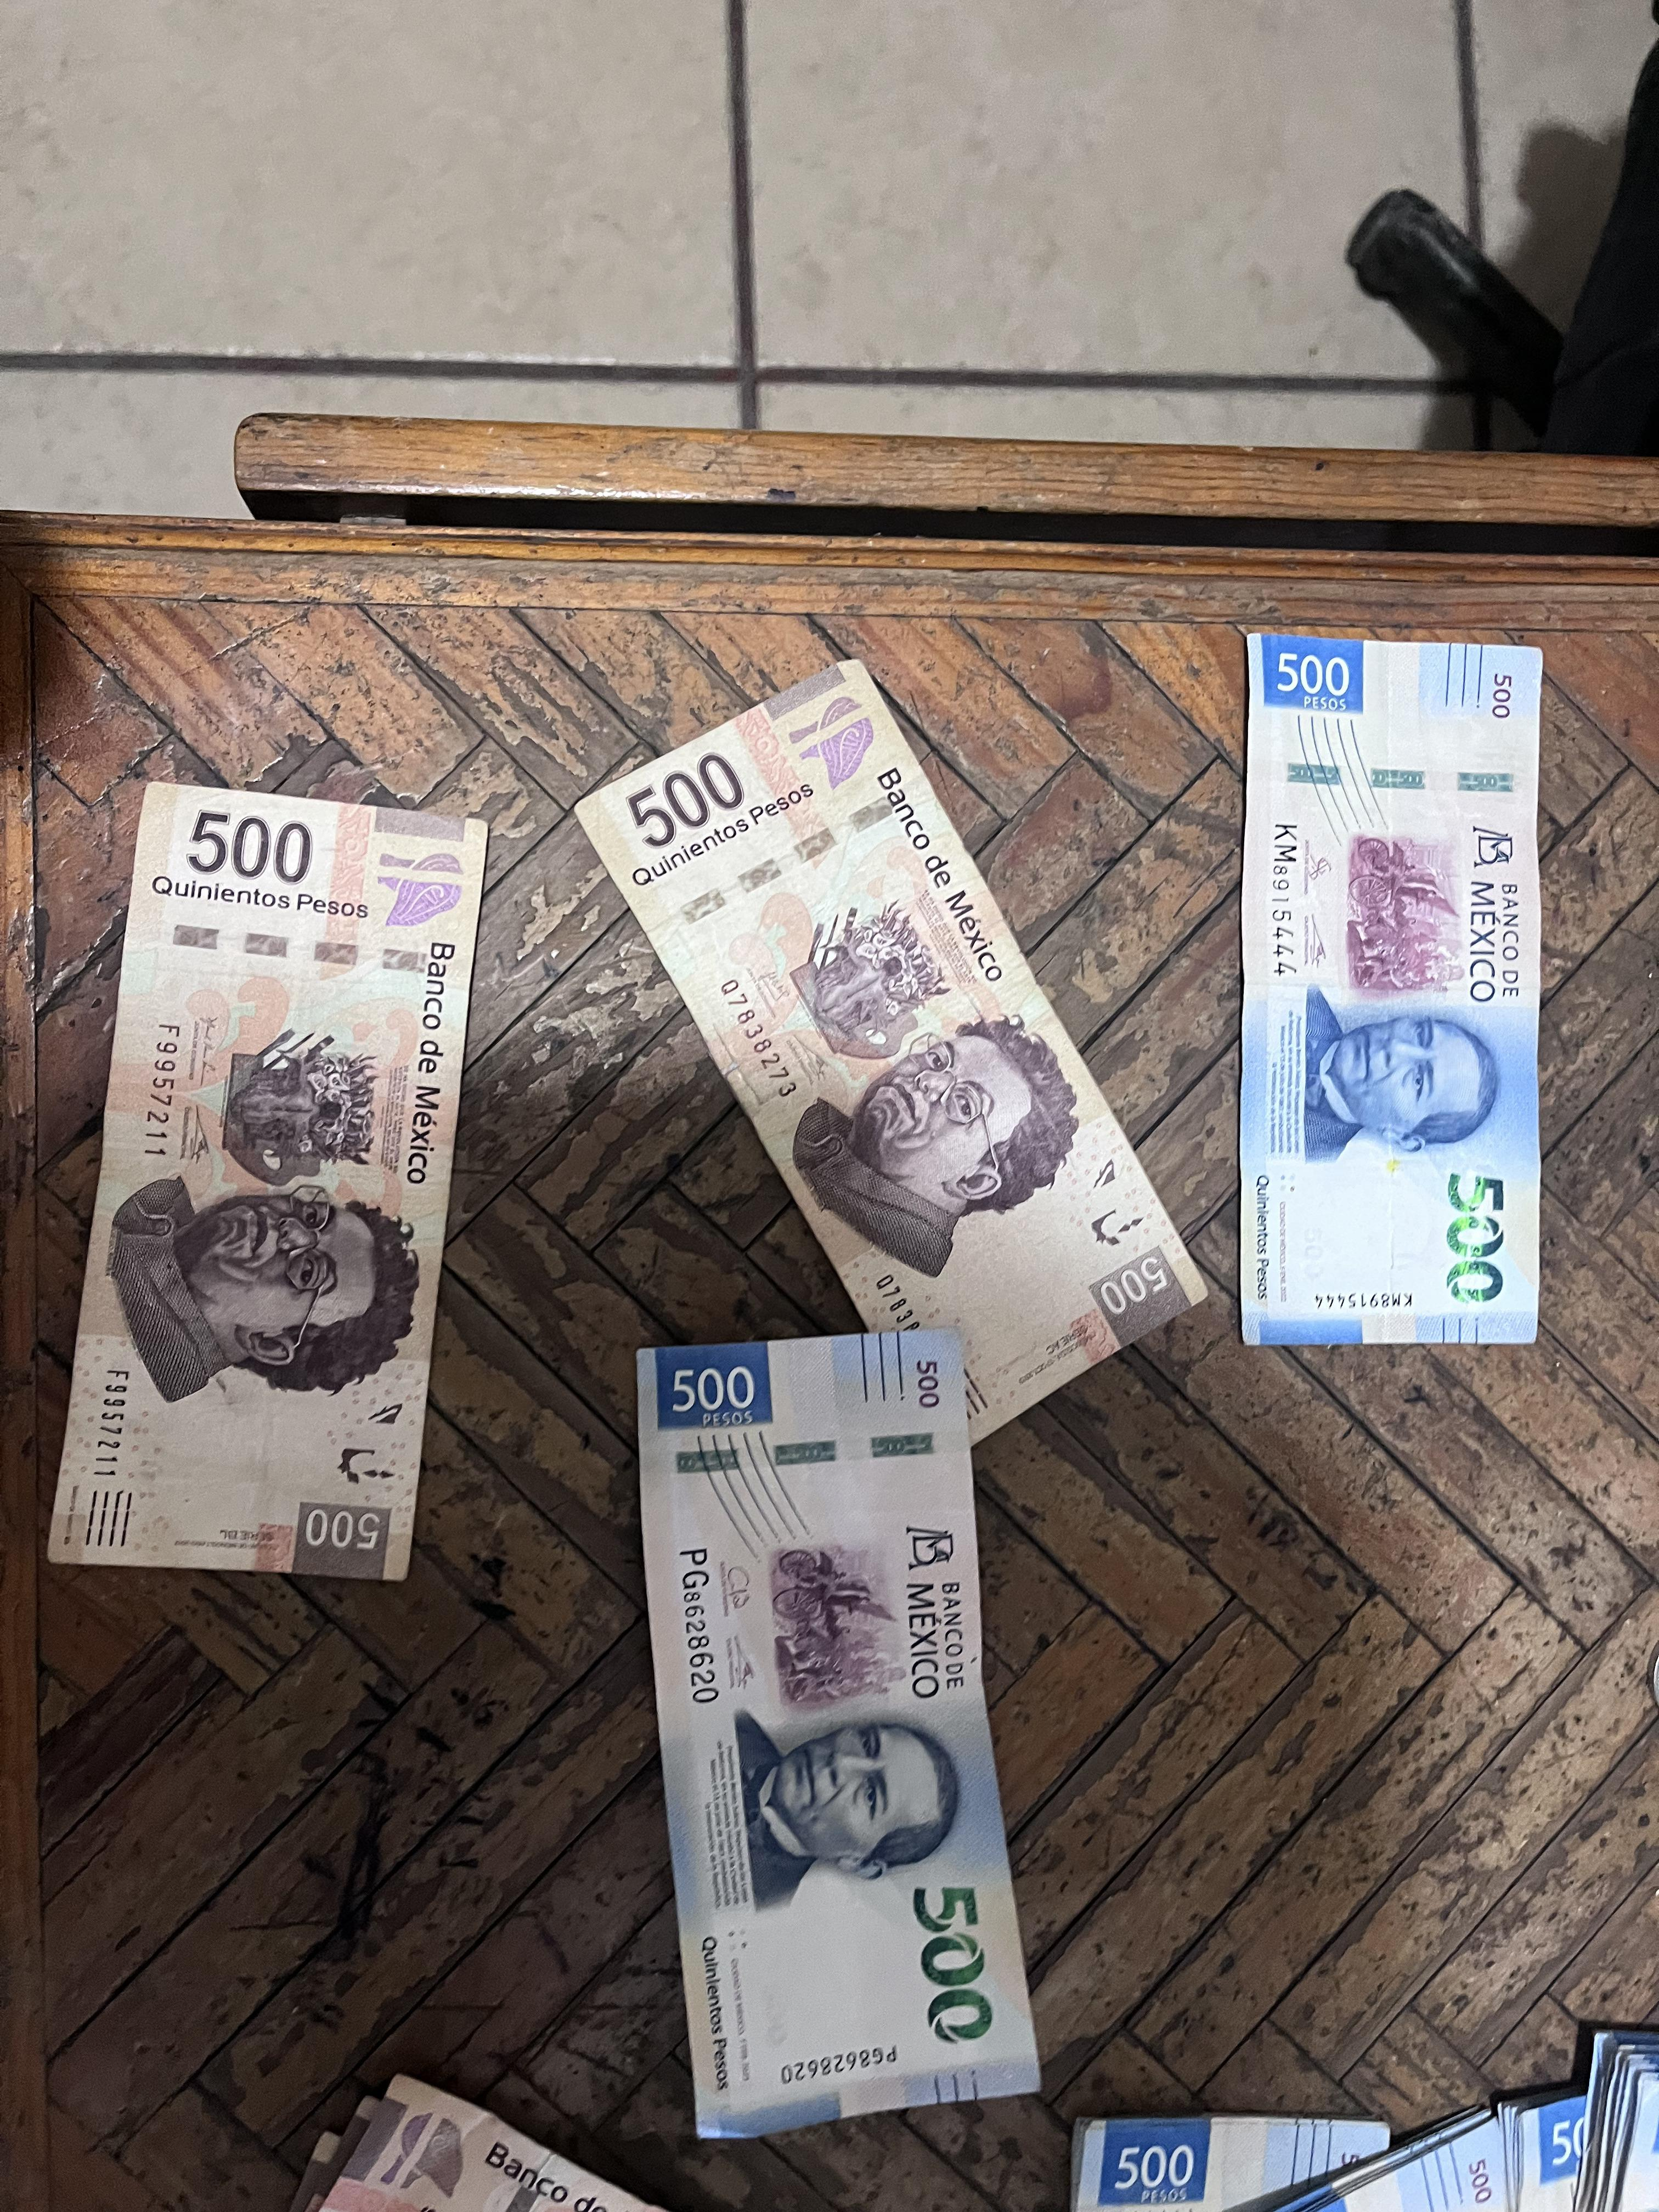500: (554, 639, 1211, 1446), (59, 786, 498, 1602)
500 nuevo: (626, 1332, 1042, 2153), (1234, 634, 1549, 1362)
